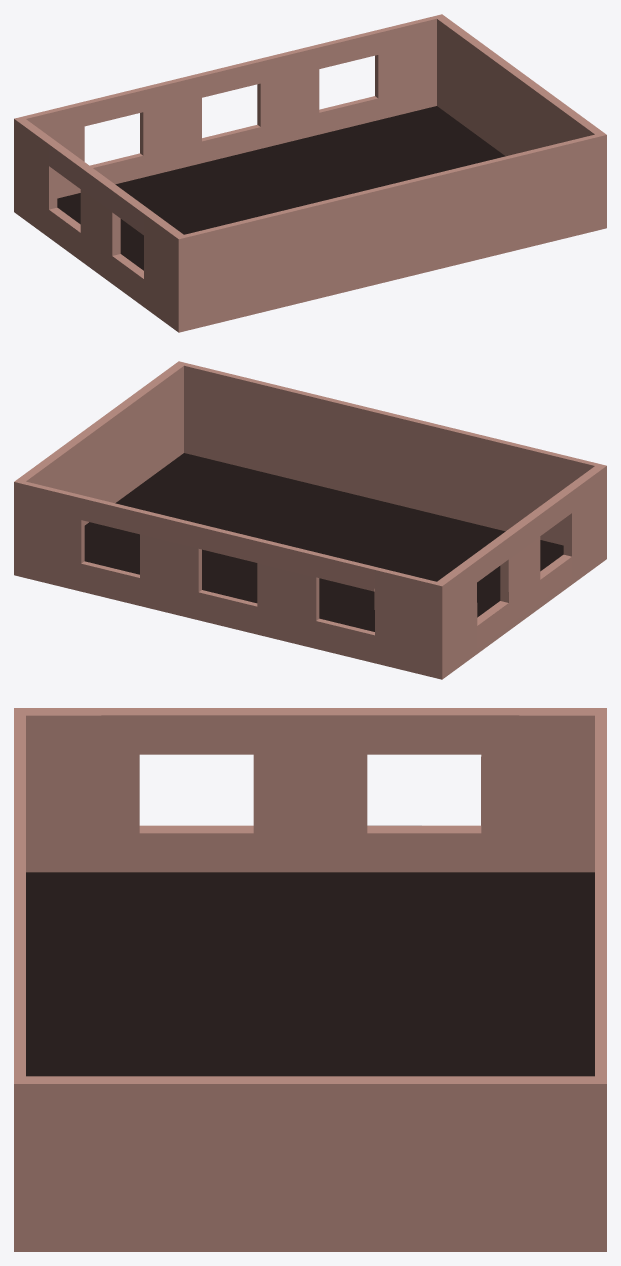
Rendered from Room[OLD].fbx.
The picture shows the model from 3 angles, top to bottom: view 1: azimuth 30°, elevation 25°; view 2: azimuth 150°, elevation 25°; view 3: azimuth 270°, elevation 25°; orthographic projection. The views are drawn at different scales.
Visible parts, largest first — view 1: Room, Floor; view 2: Room, Floor; view 3: Room, Floor.
Boxes of the visible parts, <box> form: Room: <box>14,14,606,332</box>; Floor: <box>57,106,505,270</box>; Room: <box>14,361,606,679</box>; Floor: <box>84,453,563,631</box>; Room: <box>14,708,606,1251</box>; Floor: <box>26,872,594,1076</box>.
Bounding box in the file's own units: 1288 × 269 × 859.
